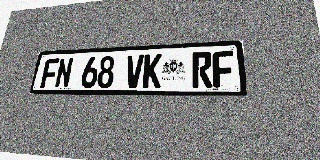6: (80, 56, 100, 88)
8: (96, 56, 116, 88)
F: (212, 51, 235, 87), (40, 58, 59, 88)
K: (142, 54, 162, 88)
N: (54, 58, 74, 88)
R: (192, 51, 212, 87)
V: (124, 54, 144, 88)
